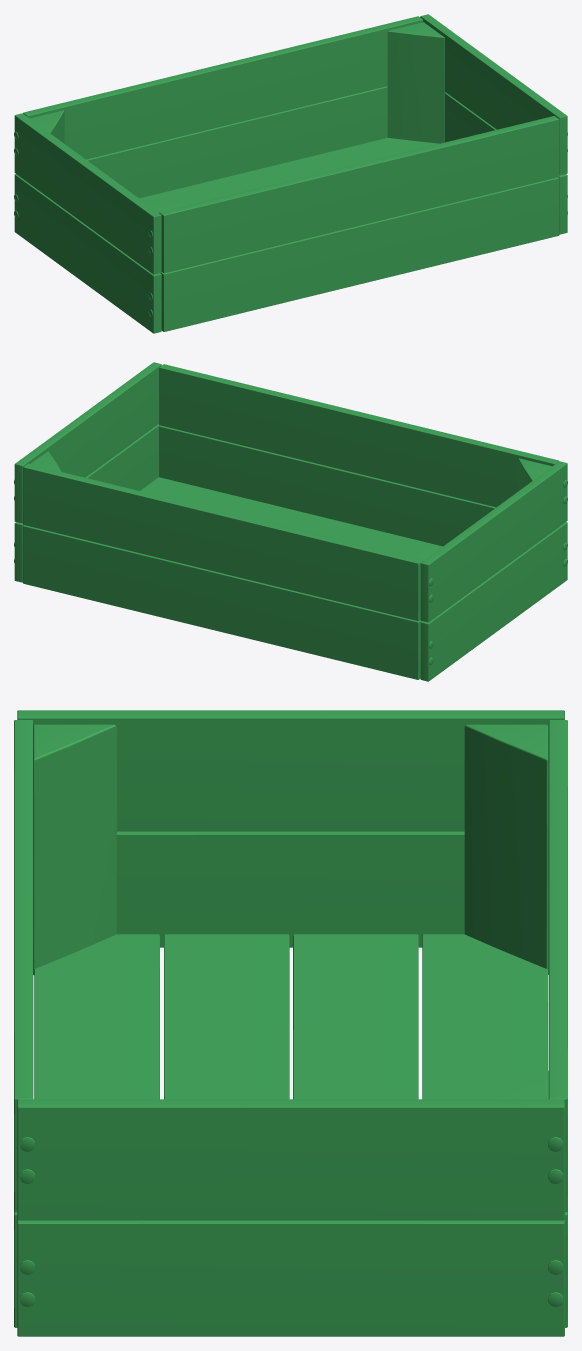
Rendered from SM_Crate_01.fbx.
3 views of the same model, one above another, from view 1: azimuth 30°, elevation 25°; view 2: azimuth 150°, elevation 25°; view 3: azimuth 270°, elevation 25° (orthographic). The views are drawn at different scales.
Visible parts, largest first — view 1: polySurface218; view 2: polySurface218; view 3: polySurface218.
Part boxes in pixels (box(x1,y1,x2,y2)): polySurface218: box(14, 14, 567, 333); polySurface218: box(14, 362, 567, 681); polySurface218: box(14, 710, 567, 1336).
Bounding box in the file's own units: 7.24 × 1.97 × 4.25.
